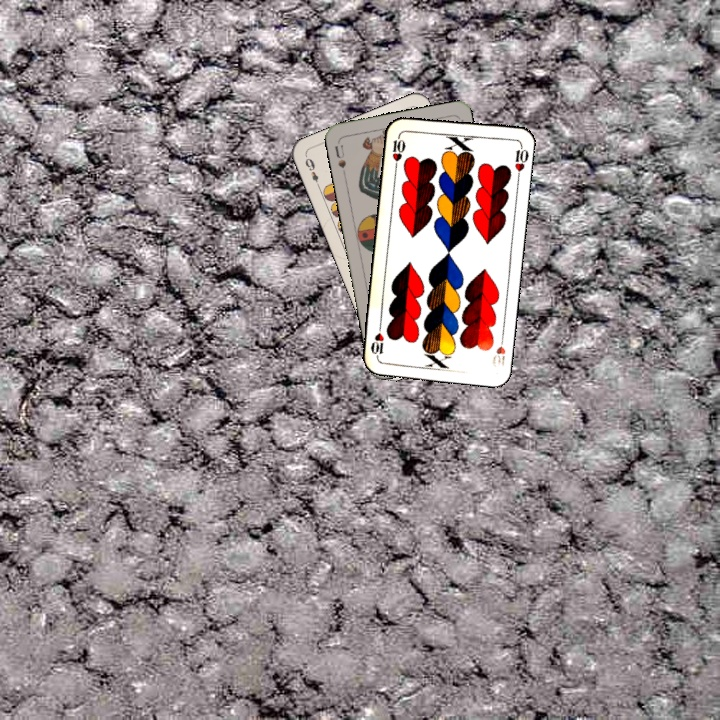E9: (301, 154, 323, 191)
H10: (388, 130, 408, 171), (488, 330, 508, 369)
SU: (330, 141, 349, 178)
